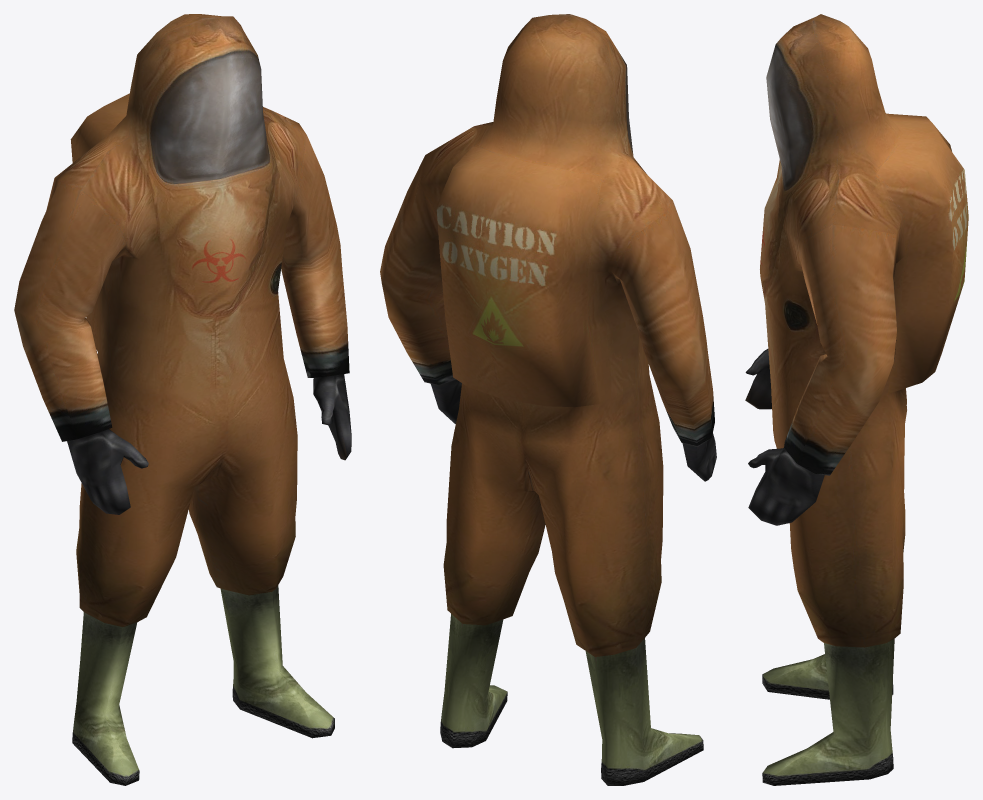
3 renders of one model, left to right at view 1: azimuth 30°, elevation 25°; view 2: azimuth 150°, elevation 25°; view 3: azimuth 270°, elevation 25°, orthographic.
Visible parts, largest first — view 1: hazmat.b3d; view 2: hazmat.b3d; view 3: hazmat.b3d.
Boxes of the visible parts, x1=… form: hazmat.b3d: x1=14, y1=14, x2=351, y2=785; hazmat.b3d: x1=380, y1=14, x2=716, y2=785; hazmat.b3d: x1=745, y1=14, x2=968, y2=785.
Bounding box in the file's own units: 34.9 × 75.52 × 21.45.
1 material, 1 textured.
